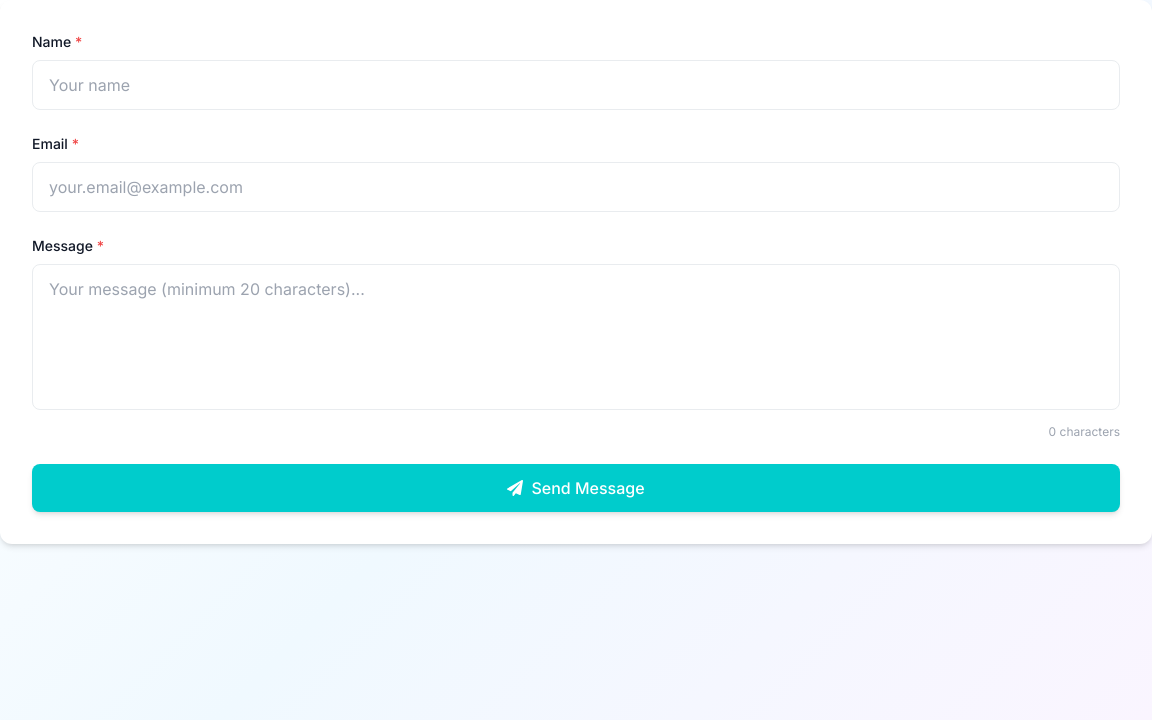
it: ContactForm › shows validation error for invalid email
Type "invalid-email" into the field labelled "Email *" at [576, 187], box [32,162,1120,212]
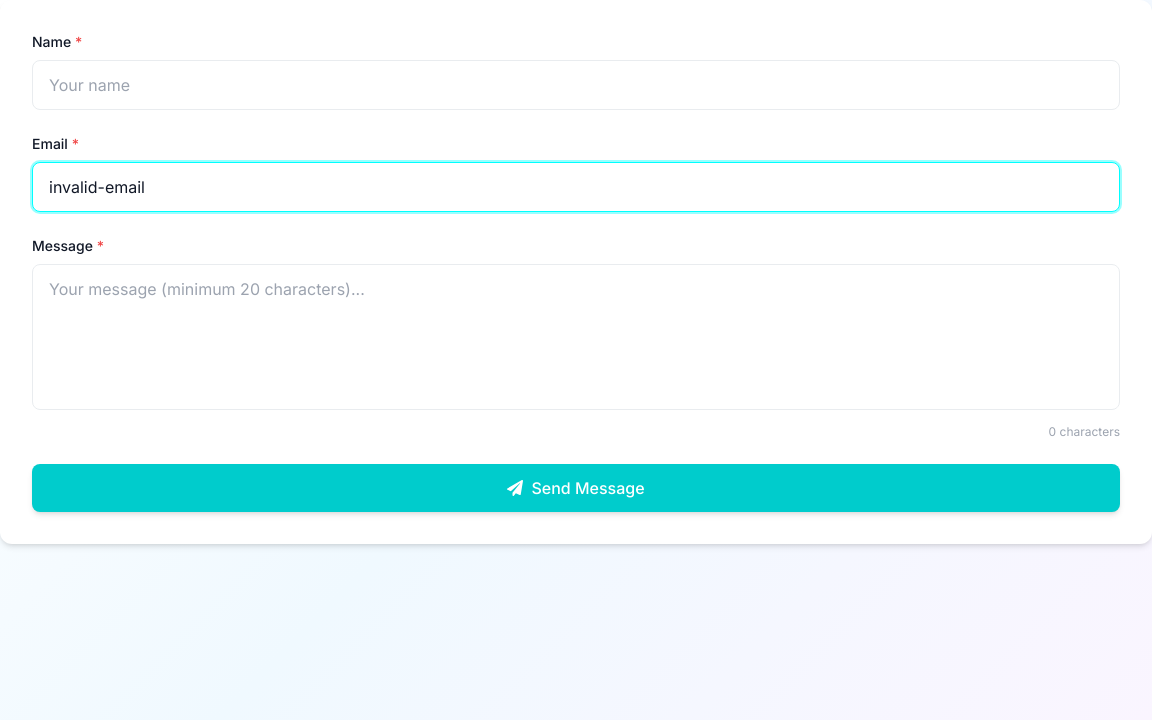
Press Tab
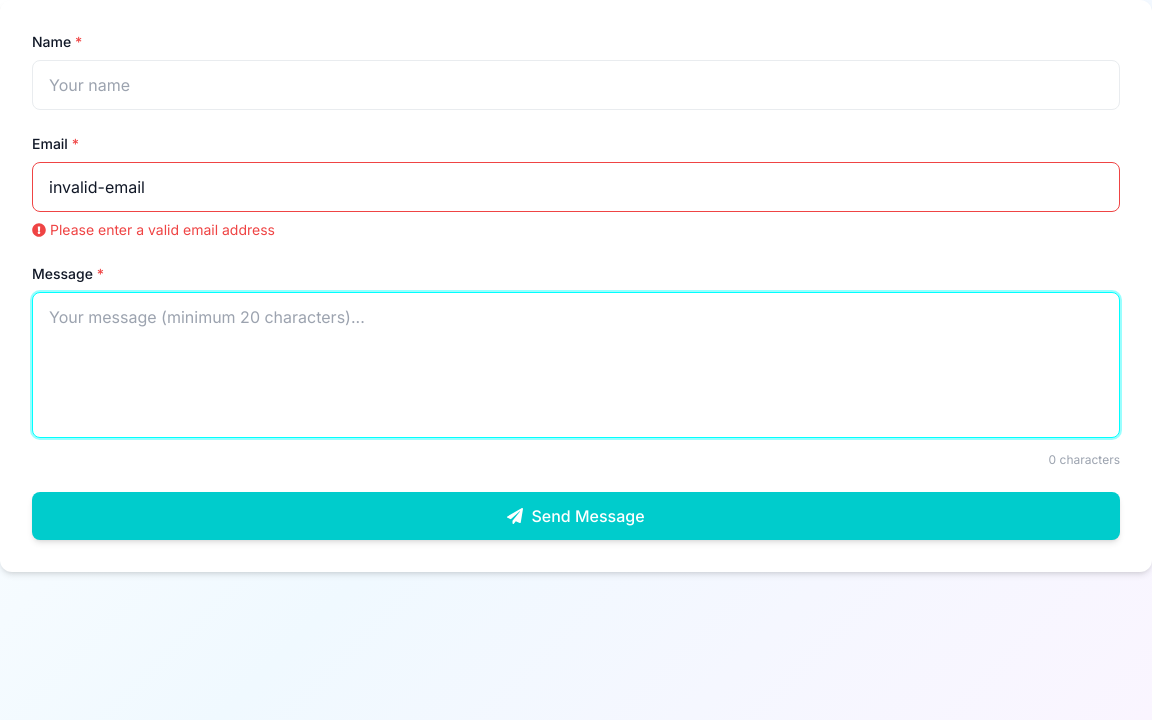
Result: the text "Please enter a valid email address" is shown at [32,221,275,238]
